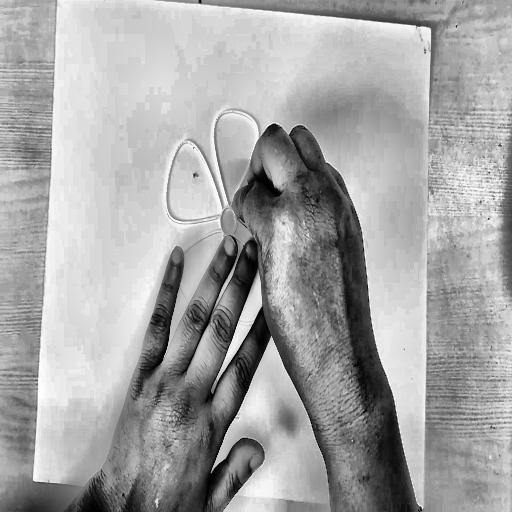bottom_left: (30, 473, 37, 485)
flower: (149, 94, 315, 434)
top_right: (427, 22, 435, 35)
